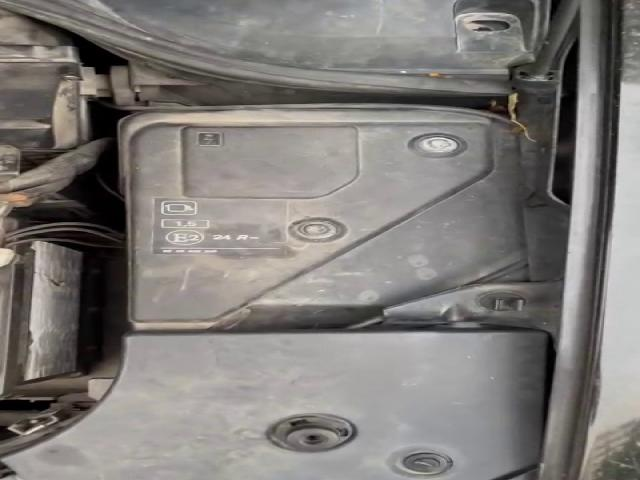fuse_box: (133, 122, 517, 321)
